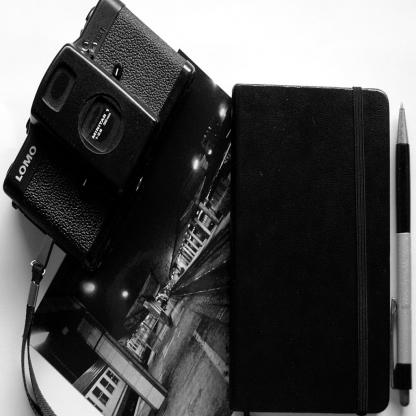Camera: (13, 29, 233, 312)
